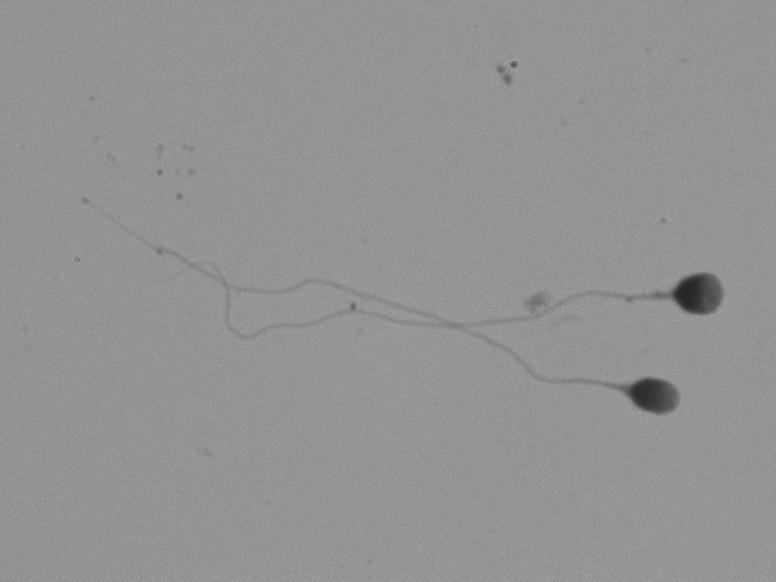Abnormal: (505, 205, 756, 364)
Normal: (149, 317, 694, 457)
